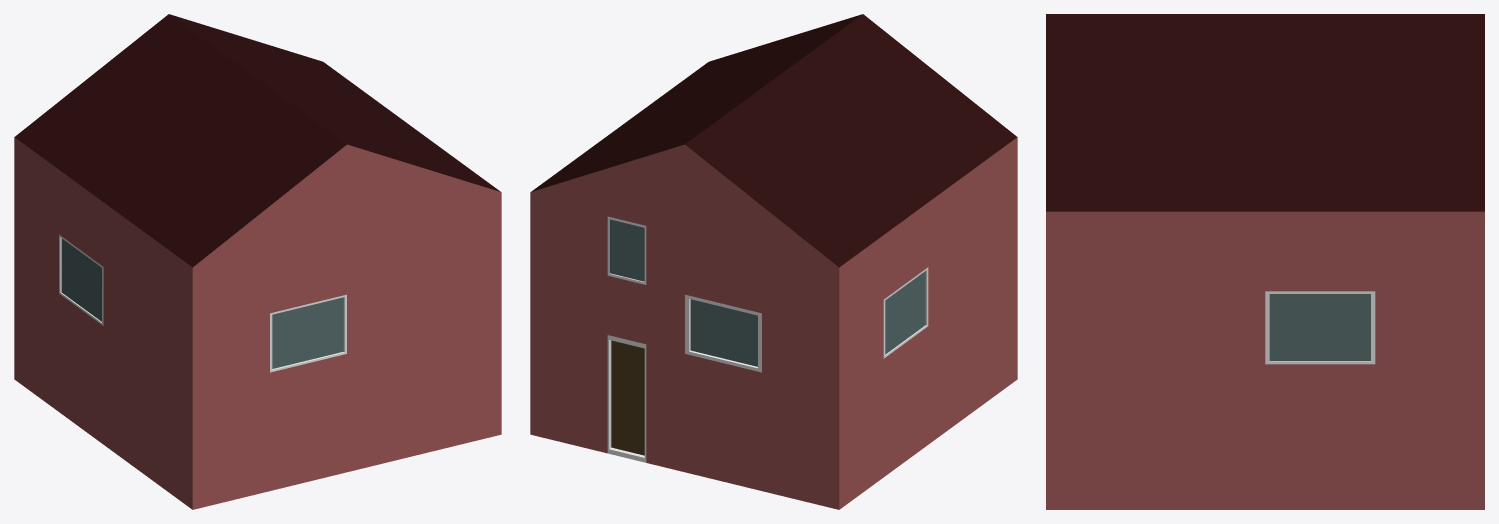
The model's file is House.fbx.
3 views of the same model, side by side, from view 1: azimuth 30°, elevation 25°; view 2: azimuth 150°, elevation 25°; view 3: azimuth 270°, elevation 25° (orthographic). The views are drawn at different scales.
Visible parts, largest first — view 1: House; view 2: House; view 3: House.
Part boxes in pixels (left/top/right/bottom): House: left=14, top=14, right=501, bottom=509; House: left=530, top=14, right=1017, bottom=509; House: left=1046, top=14, right=1484, bottom=509.
Bounding box in the file's own units: 800 × 811 × 800.
